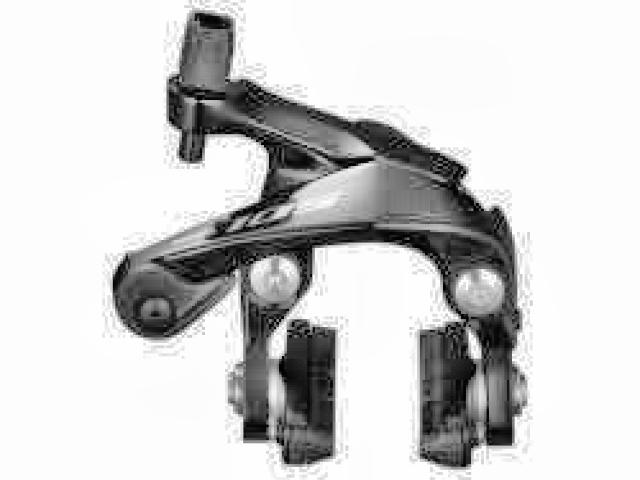rim_brake: (111, 13, 529, 477)
